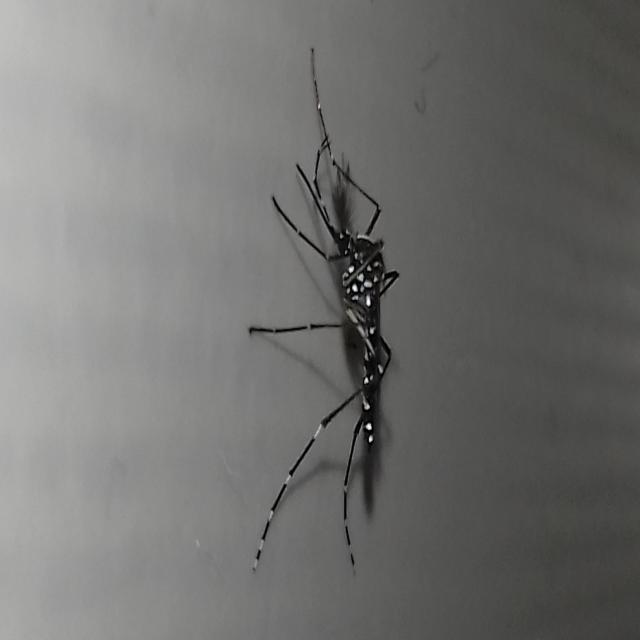albopictus: (242, 31, 416, 601)
